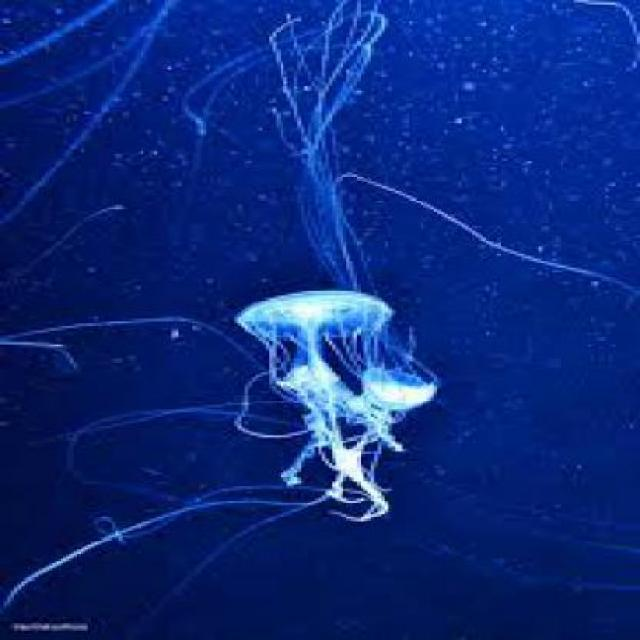Jellyfish: (223, 279, 420, 524)
